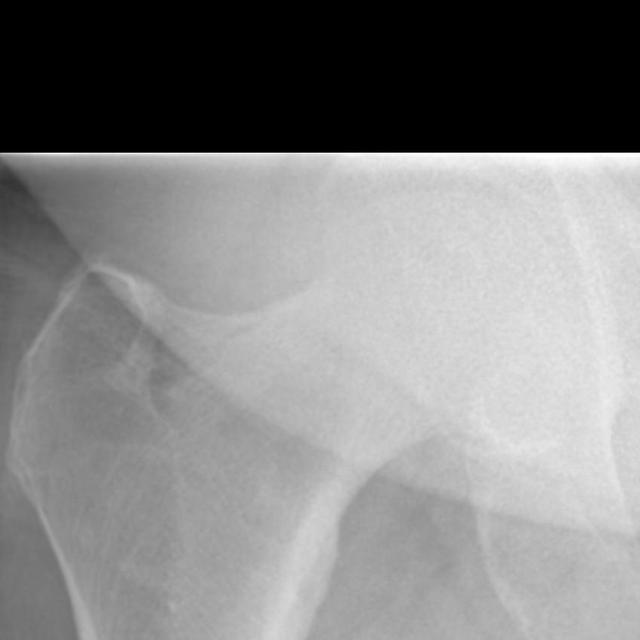Fitted_femural_head: (318, 189, 432, 318)
